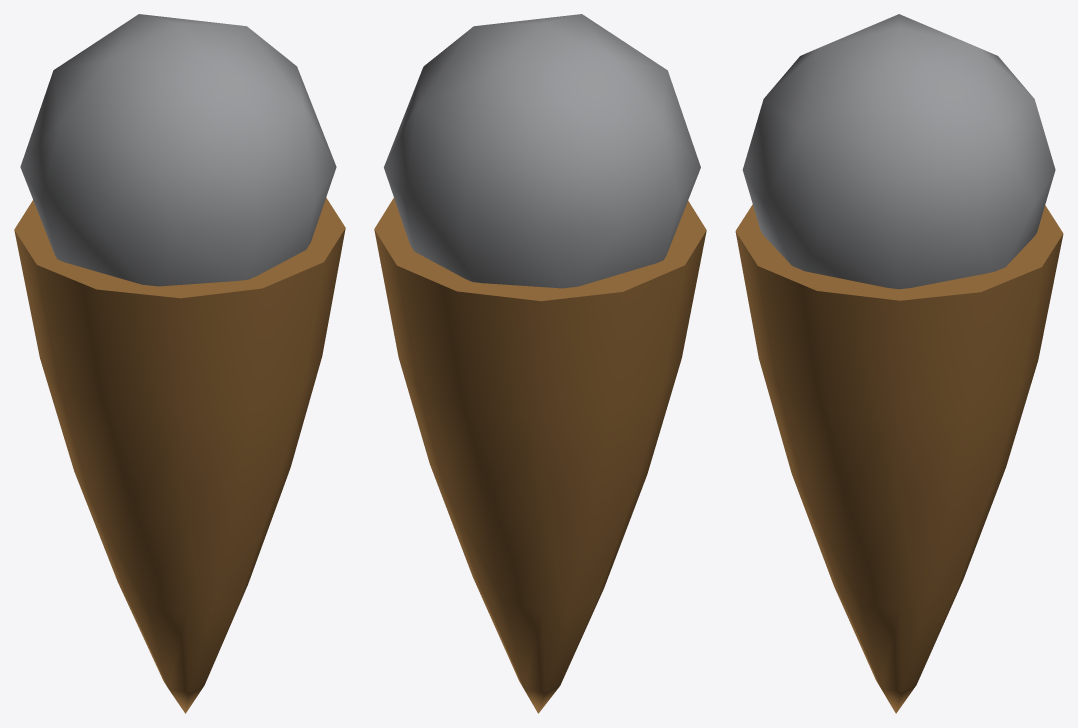
Rendered from food_icecream_01.fbx.
3 views of the same model, side by side, from view 1: azimuth 30°, elevation 25°; view 2: azimuth 150°, elevation 25°; view 3: azimuth 270°, elevation 25° (orthographic).
Visible parts, largest first — view 1: food_icecream_01; view 2: food_icecream_01; view 3: food_icecream_01.
Part boxes in pixels (x1=…): food_icecream_01: x1=14, y1=14, x2=345, y2=713; food_icecream_01: x1=374, y1=14, x2=706, y2=713; food_icecream_01: x1=735, y1=14, x2=1063, y2=713.
Bounding box in the file's own units: 30.4 × 69.88 × 30.4.
